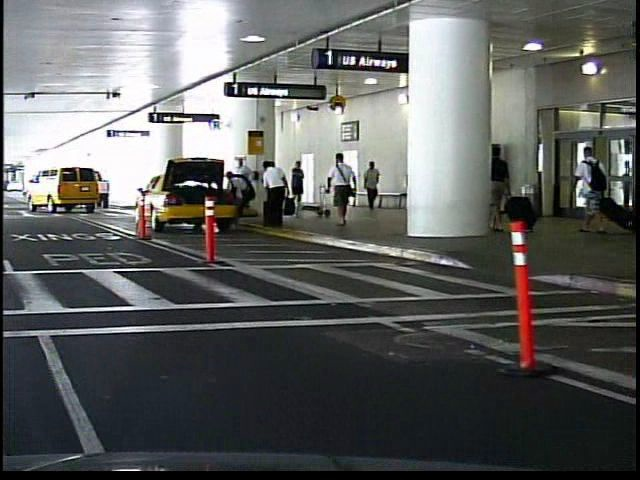person: (564, 143, 607, 237), (319, 149, 356, 230), (487, 137, 510, 231), (359, 156, 379, 214)
